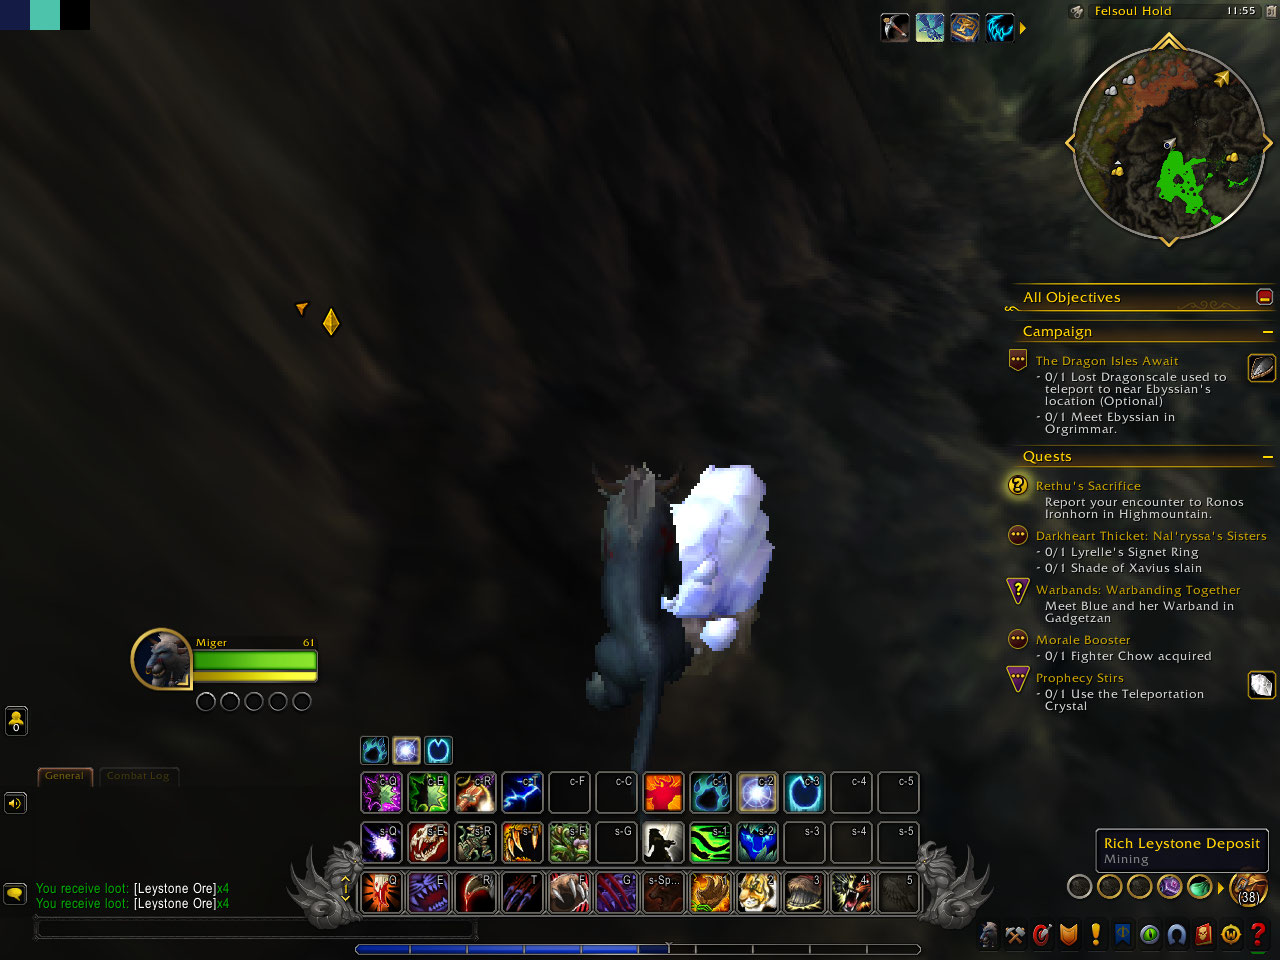ore: (646, 460, 780, 682)
